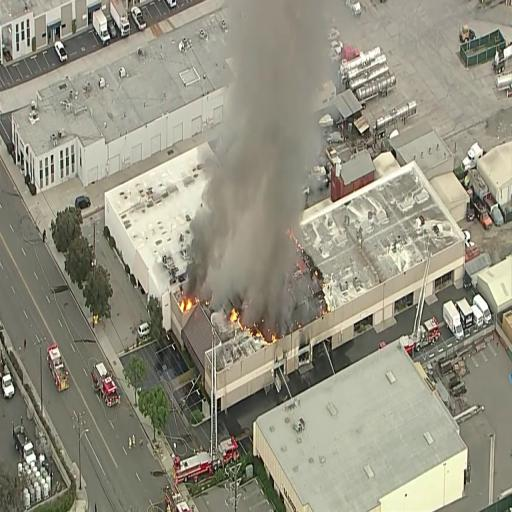smoke: (232, 30, 310, 264)
